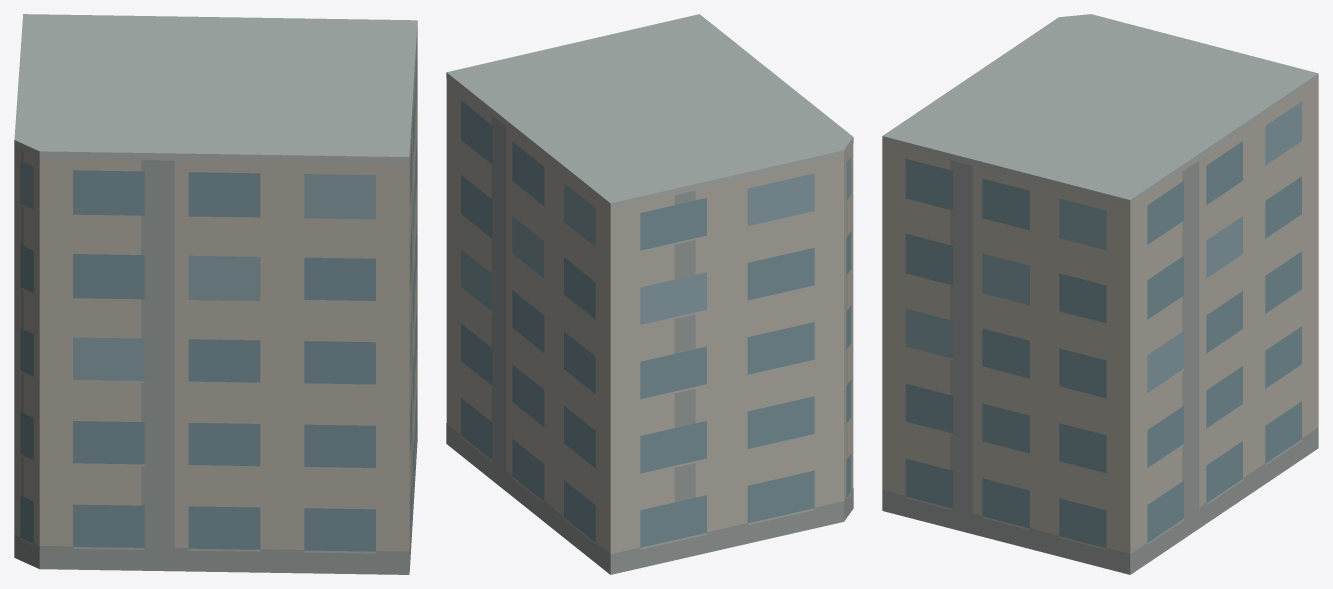
File: survey-upis-32780070.glb
3 views of the same model, side by side, from view 1: azimuth 30°, elevation 25°; view 2: azimuth 150°, elevation 25°; view 3: azimuth 270°, elevation 25° (orthographic). The views are drawn at different scales.
Visible parts, largest first — view 1: survey-upis-32780070.tmp; view 2: survey-upis-32780070.tmp; view 3: survey-upis-32780070.tmp.
Part boxes in pixels (bbox=[...]): survey-upis-32780070.tmp: bbox=[14, 14, 417, 574]; survey-upis-32780070.tmp: bbox=[446, 14, 853, 574]; survey-upis-32780070.tmp: bbox=[882, 14, 1318, 574].
Bounding box in the file's own units: 14.91 × 14 × 14.78.
